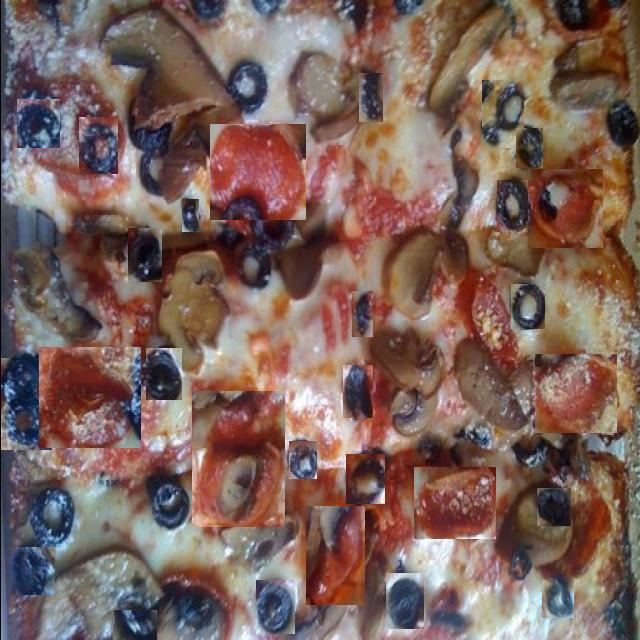olive: (233, 202, 295, 290), (0, 358, 51, 450), (481, 80, 523, 148), (132, 123, 170, 196), (30, 492, 76, 546), (78, 117, 117, 174), (14, 99, 58, 148), (385, 573, 423, 629), (10, 547, 54, 595), (255, 580, 294, 634), (227, 62, 267, 112), (345, 454, 384, 504), (145, 348, 181, 400), (127, 228, 161, 282), (606, 98, 637, 156), (152, 482, 188, 531), (496, 180, 529, 232), (342, 366, 372, 420), (510, 284, 544, 329), (112, 610, 156, 640), (541, 577, 573, 618), (536, 488, 570, 526), (426, 606, 470, 633), (358, 73, 382, 122), (515, 128, 542, 168), (288, 441, 316, 479), (351, 291, 372, 337), (505, 551, 531, 581), (181, 199, 198, 232)
pepperoni: (191, 391, 284, 527), (38, 347, 140, 448), (209, 124, 305, 220), (534, 354, 616, 433), (550, 482, 611, 581), (527, 169, 602, 248), (413, 467, 495, 539), (305, 506, 364, 605), (466, 275, 518, 385)
pizza: (0, 0, 637, 640)
